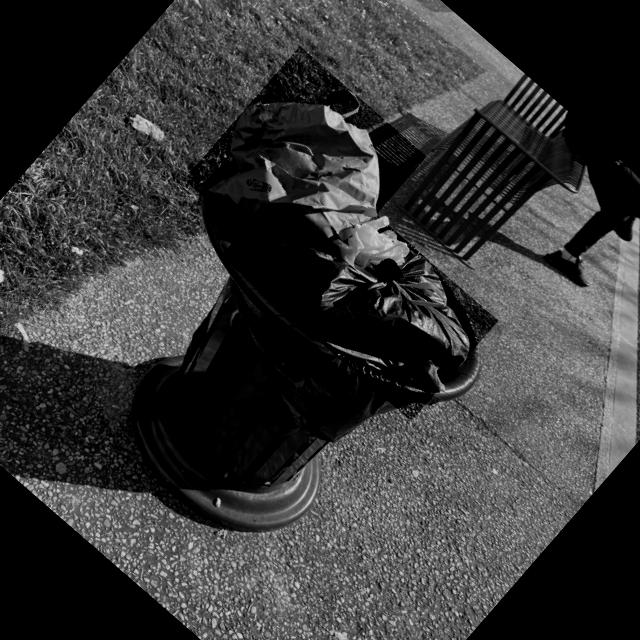Garbage bag: (237, 233, 469, 375)
Paper: (208, 90, 379, 248)
